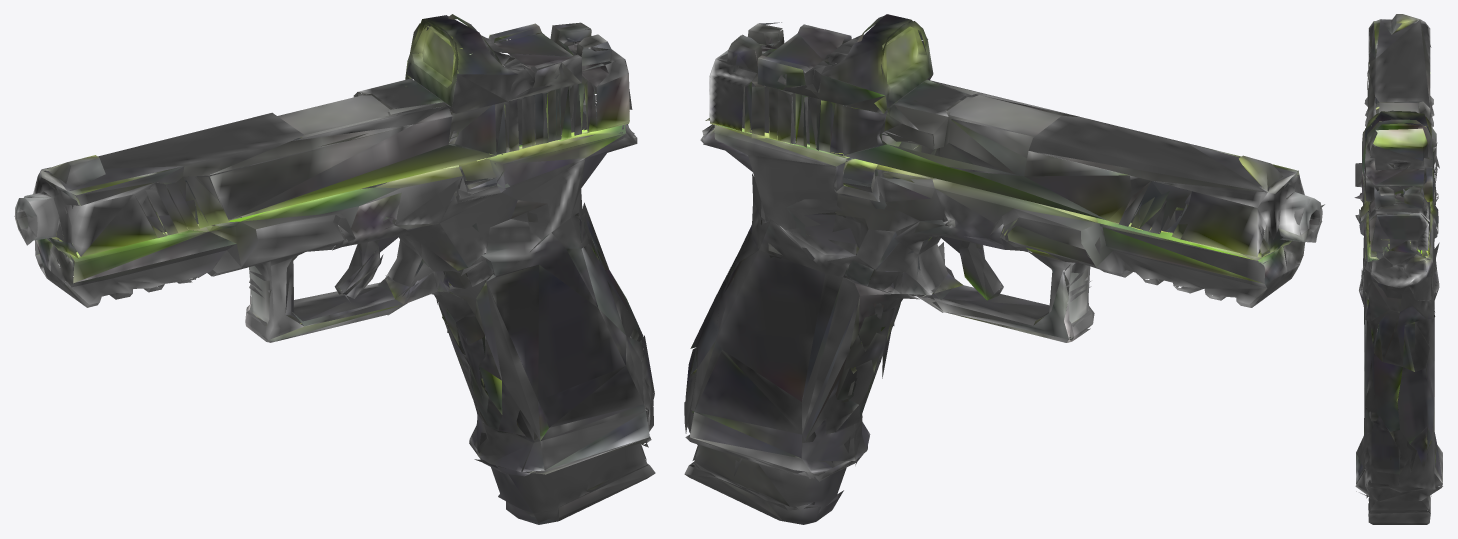
Rendered from gun_pistol_lo.glb.
3 views of the same model, side by side, from view 1: azimuth 30°, elevation 25°; view 2: azimuth 150°, elevation 25°; view 3: azimuth 270°, elevation 25° (orthographic). The views are drawn at different scales.
Visible parts, largest first — view 1: Mesh_0; view 2: Mesh_0; view 3: Mesh_0.
Boxes of the visible parts, box(x1,y1,x2,y2) form: Mesh_0: box(14, 14, 655, 524); Mesh_0: box(684, 14, 1324, 524); Mesh_0: box(1354, 14, 1442, 524).
Bounding box in the file's own units: 1.93 × 1.48 × 0.3268.
1 material, 1 textured.
